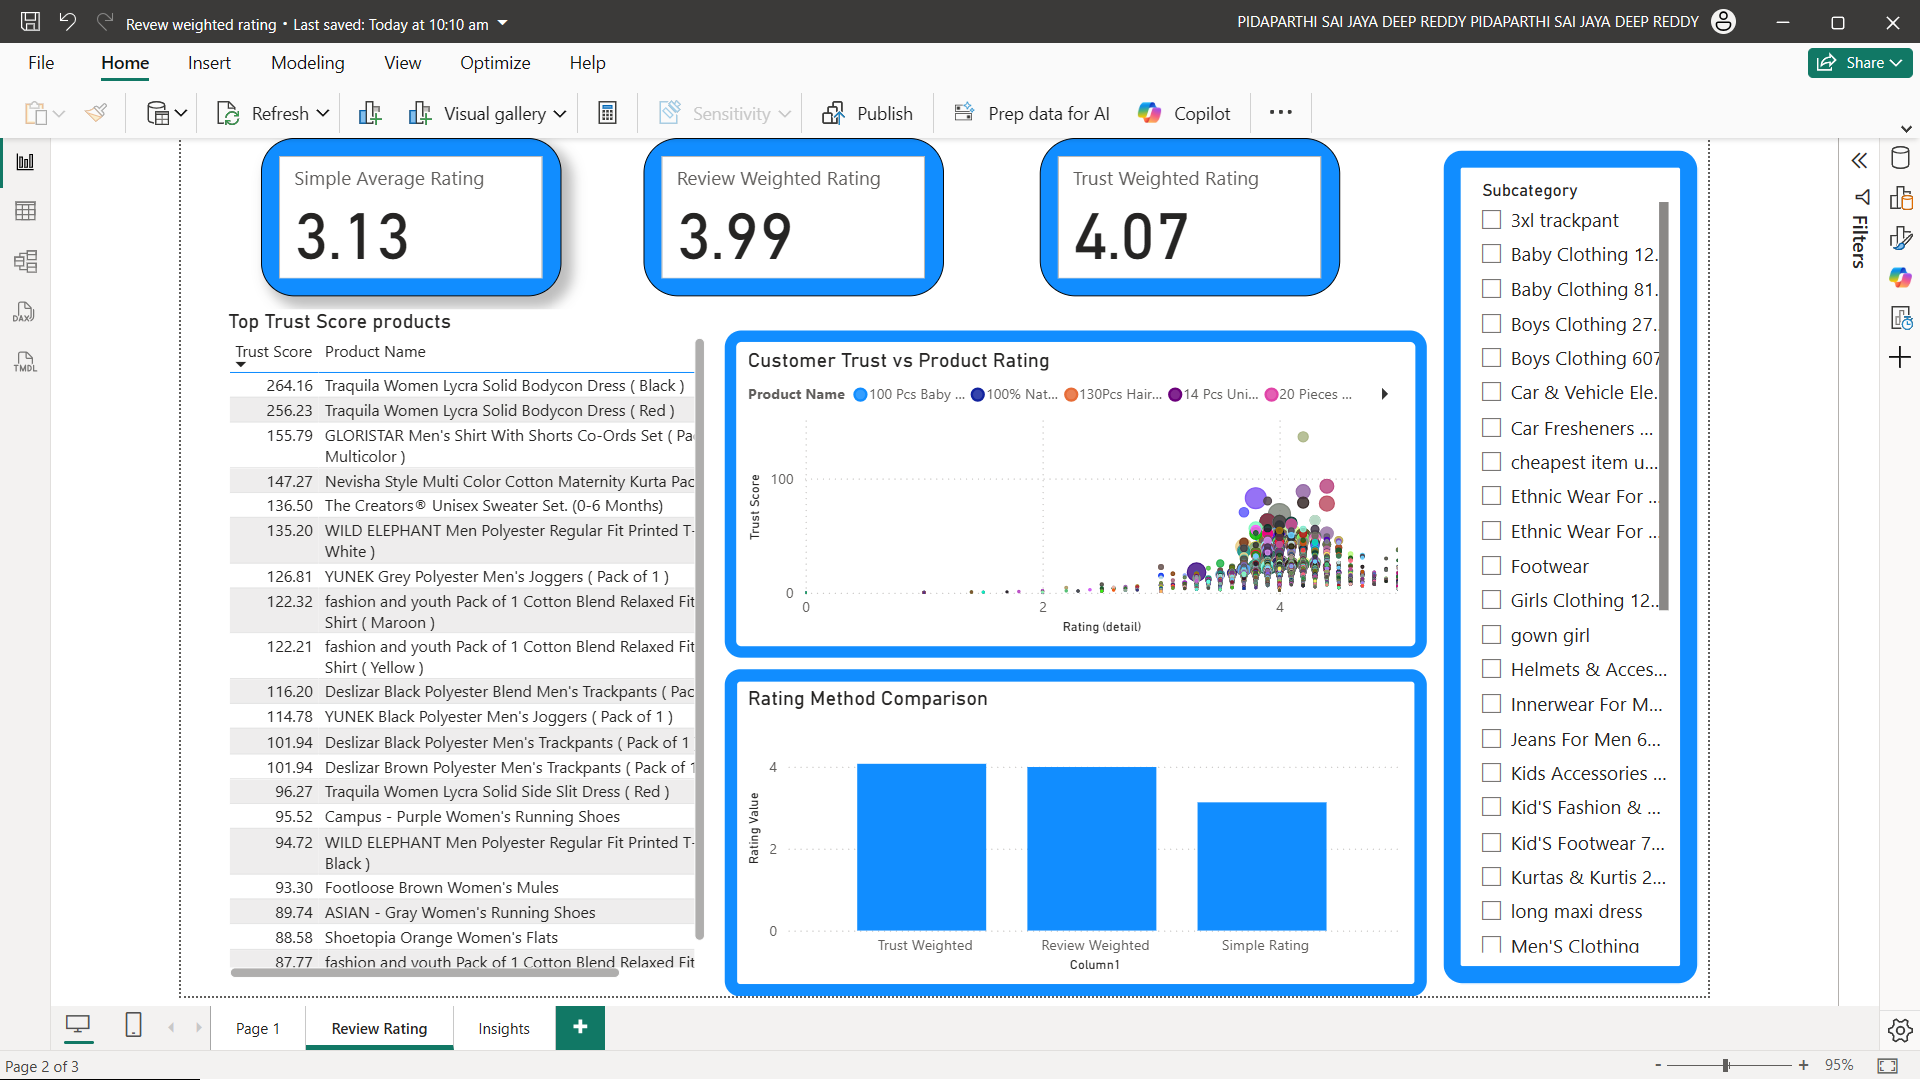

Layout of this report page (visuals, bound fields, positions):
{"tool":"powerbi","page":{"name":"Page 2","canvas":[1280,720],"ordinal":1},"visuals":[{"type":"cardVisual","fields":{"Data":["snapdeal_products.Simple Average Rating"]},"box":[67.1,0,251.6,133.1],"z":0},{"type":"cardVisual","fields":{"Data":["snapdeal_products.Review Weighted Rating"]},"box":[387.9,0,251.6,133.1],"z":1},{"type":"cardVisual","fields":{"Data":["snapdeal_products.Trust Weighted Rating"]},"box":[720.2,0,251.6,133.1],"z":2},{"type":"clusteredColumnChart","title":"Rating Method Comparison","fields":{"Category":["Rating Comparison.Column1"],"Y":["Rating Comparison.Rating Value"]},"box":[456,445.3,588.6,274.8],"z":3},{"type":"scatterChart","title":"Customer Trust vs Product Rating","fields":{"Series":["snapdeal_products.Product Name"],"Size":["Sum(snapdeal_products.Reviews Count (listing))"],"X":["snapdeal_products.Rating (detail)"],"Y":["snapdeal_products.Trust Score"]},"box":[456,161.1,588.6,274.8],"z":5},{"type":"slicer","fields":{"Values":["snapdeal_products.Subcategory"]},"box":[1058.8,10.7,213.2,698.7],"z":6},{"type":"tableEx","title":"Top Trust Score products","fields":{"Values":["snapdeal_products.Trust Score","snapdeal_products.Product Name"]},"box":[34.3,143.3,409.8,566.1],"z":7}]}

Visuals, with their boxes on the page's 1280x720 design canvas (x1, y1, x2, y2). These are canvas units, not pixel positions in the 1920x1080 screenshot, which may show the page scaled, cropped or inside an application window:
cardVisual - snapdeal_products.Simple Average Rating: rect(67, 0, 319, 133)
cardVisual - snapdeal_products.Review Weighted Rating: rect(388, 0, 640, 133)
cardVisual - snapdeal_products.Trust Weighted Rating: rect(720, 0, 972, 133)
"Rating Method Comparison" clusteredColumnChart: rect(456, 445, 1045, 720)
"Customer Trust vs Product Rating" scatterChart: rect(456, 161, 1045, 436)
slicer - snapdeal_products.Subcategory: rect(1059, 11, 1272, 709)
"Top Trust Score products" tableEx: rect(34, 143, 444, 709)
